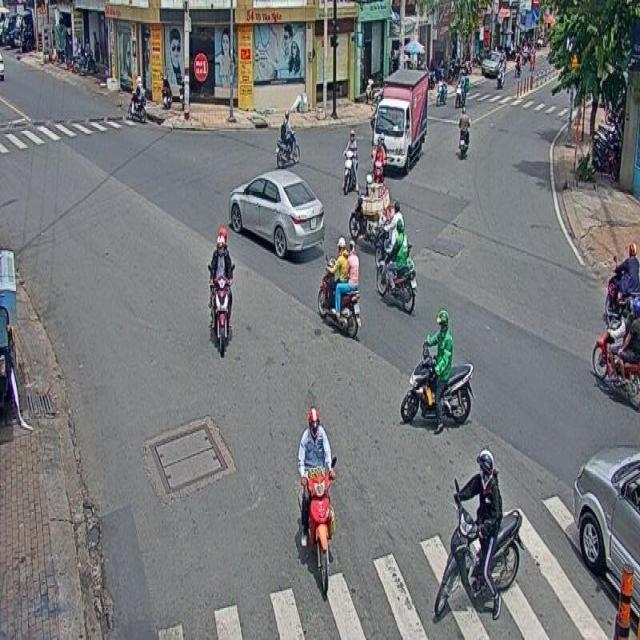car: (226, 169, 322, 261)
motorcycle: (434, 450, 522, 624), (398, 309, 474, 436), (294, 404, 340, 597), (589, 292, 640, 402), (315, 232, 361, 338), (374, 218, 416, 312), (348, 174, 396, 250), (208, 236, 236, 352), (277, 110, 299, 169), (342, 127, 360, 195)
truck: (371, 67, 428, 178)
